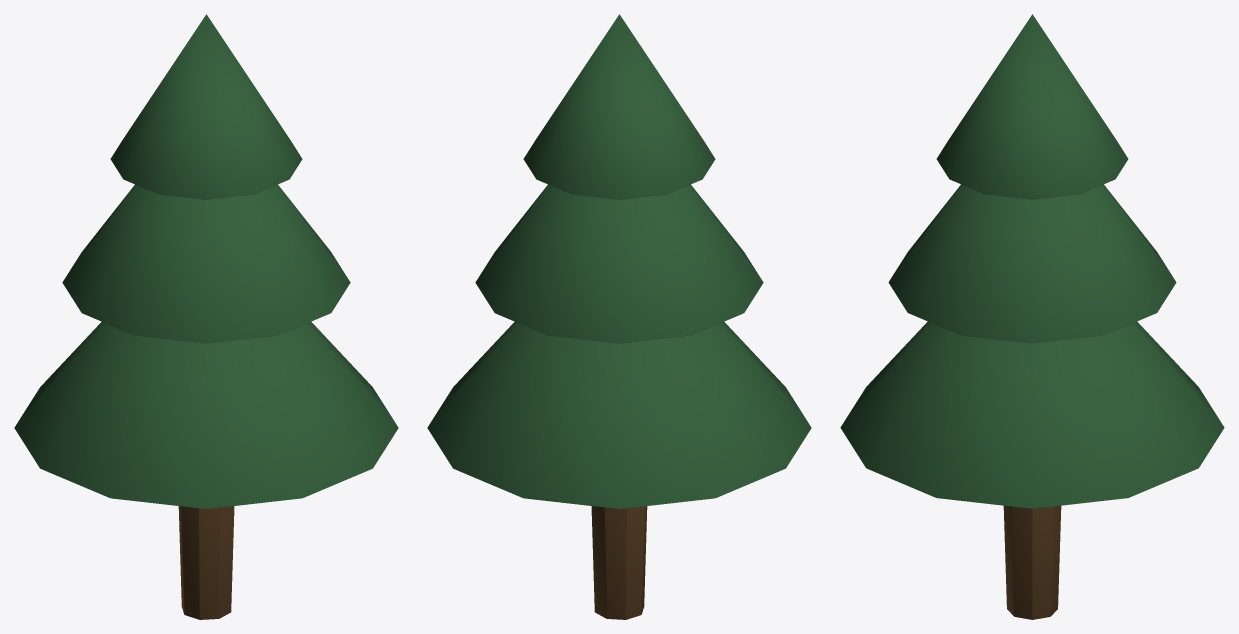
The model's file is tree_pine.glb.
The picture shows the model from 3 angles, left to right: view 1: azimuth 30°, elevation 25°; view 2: azimuth 150°, elevation 25°; view 3: azimuth 270°, elevation 25°; orthographic projection.
Visible parts, largest first — view 1: Cone.001, Cone.002, Cone.003, Cone; view 2: Cone.001, Cone.002, Cone.003, Cone; view 3: Cone.001, Cone.002, Cone.003, Cone.
Boxes of the visible parts, x1,y1,x2,y2 form: Cone.001: [14, 322, 398, 509]; Cone.002: [62, 184, 350, 343]; Cone.003: [110, 14, 302, 199]; Cone: [178, 506, 234, 619]; Cone.001: [427, 322, 811, 509]; Cone.002: [475, 184, 763, 343]; Cone.003: [523, 14, 715, 199]; Cone: [591, 506, 647, 619]; Cone.001: [840, 321, 1224, 508]; Cone.002: [888, 184, 1176, 343]; Cone.003: [936, 14, 1128, 199]; Cone: [1003, 505, 1061, 619].
Bounding box in the file's own units: 2.4 × 4.1 × 2.4.
